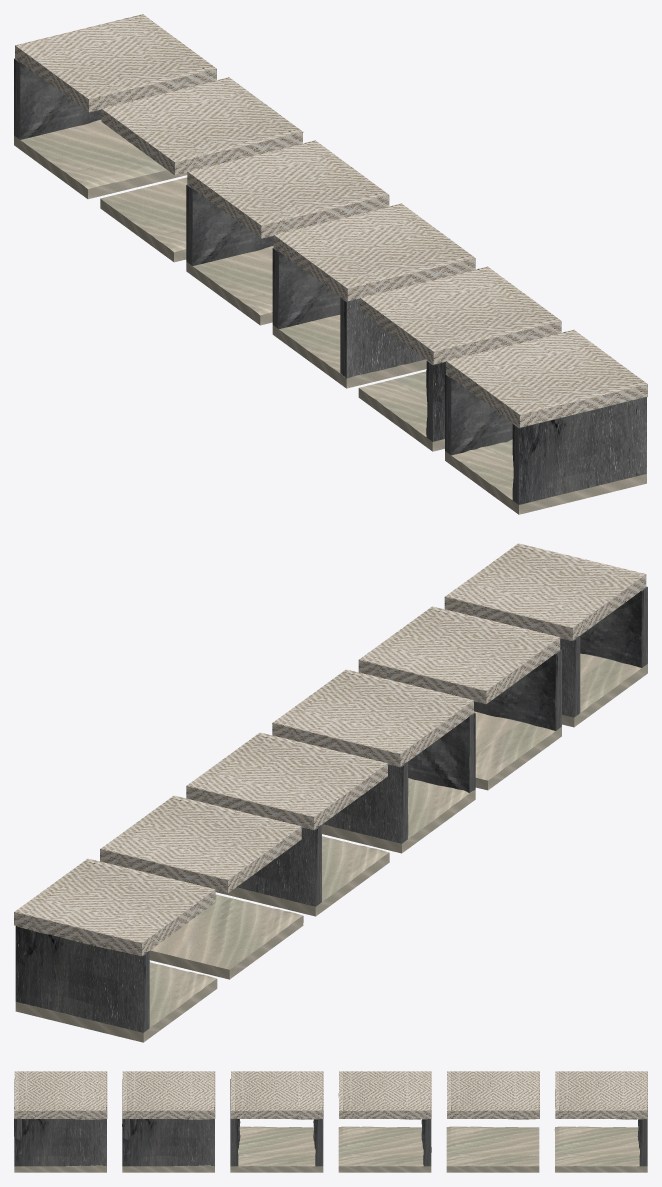
Rendered from StoneBeach.glb.
3 views of the same model, one above another, from view 1: azimuth 30°, elevation 25°; view 2: azimuth 150°, elevation 25°; view 3: azimuth 270°, elevation 25° (orthographic). The views are drawn at different scales.
Visible parts, largest first — view 1: T-Corridor.021, T-Corridor.009, T-Corridor.016, T-Corridor.019, T-Corridor.013, T-Corridor.022, T-Corridor.017, T-Corridor.015; view 2: T-Corridor.009, T-Corridor.019, T-Corridor.016, T-Corridor.021, T-Corridor.013, T-Corridor.022, T-Corridor.015, T-Corridor.017; view 3: T-Corridor.019, T-Corridor.021, T-Corridor.009, T-Corridor.016, T-Corridor.013, T-Corridor.022, T-Corridor.017, T-Corridor.015.
Part boxes in pixels (x1,y1,x2,y2): T-Corridor.021: [445, 329, 647, 514]; T-Corridor.009: [272, 203, 475, 388]; T-Corridor.016: [186, 140, 389, 325]; T-Corridor.019: [358, 266, 561, 451]; T-Corridor.013: [100, 77, 303, 262]; T-Corridor.022: [15, 14, 216, 112]; T-Corridor.017: [14, 120, 187, 199]; T-Corridor.015: [14, 58, 101, 139]; T-Corridor.009: [272, 669, 475, 853]; T-Corridor.019: [358, 606, 561, 790]; T-Corridor.016: [186, 732, 389, 916]; T-Corridor.021: [444, 543, 647, 727]; T-Corridor.013: [100, 795, 303, 979]; T-Corridor.022: [14, 858, 215, 956]; T-Corridor.015: [15, 926, 149, 1032]; T-Corridor.017: [15, 962, 217, 1042]; T-Corridor.019: [122, 1071, 215, 1172]; T-Corridor.021: [14, 1071, 107, 1172]; T-Corridor.009: [230, 1071, 323, 1172]; T-Corridor.016: [338, 1071, 431, 1172]; T-Corridor.013: [446, 1071, 539, 1172]; T-Corridor.022: [555, 1071, 647, 1119]; T-Corridor.017: [554, 1126, 647, 1172]; T-Corridor.015: [637, 1119, 647, 1166].
Bounding box in the file's own units: 6.08 × 4.45 × 41.04.
3 materials, 3 textured.
